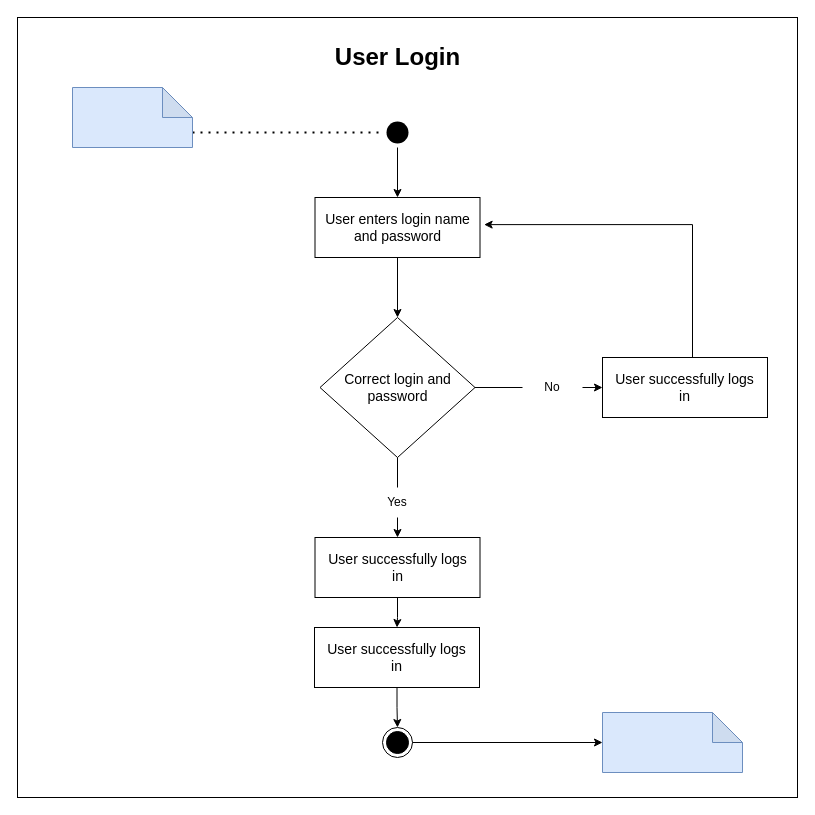
Some shapes in this 815 by 815 pixel diagram are drawn without their labels. Here are the shapes that lost their labels. From the top down, the centre of each, then its label:
At pixel 132 117: "User is Registered".
At pixel 672 742: "User Logs into the System".
